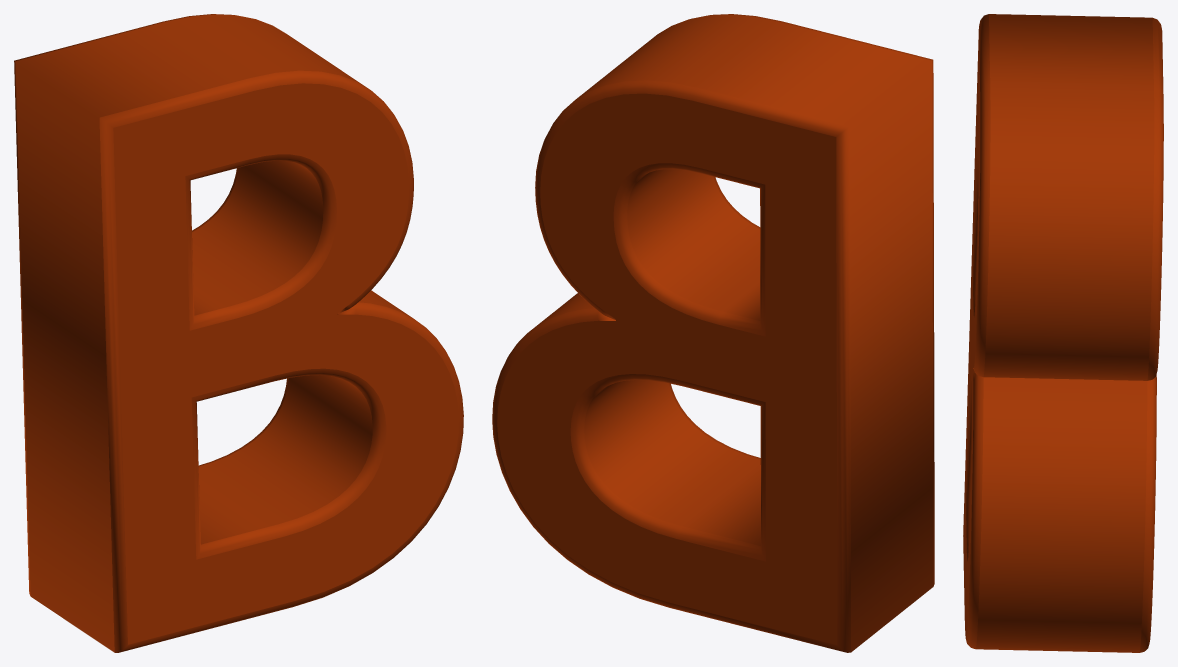
Rendered from letters_2.obj.
3 views of the same model, side by side, from view 1: azimuth 30°, elevation 25°; view 2: azimuth 150°, elevation 25°; view 3: azimuth 270°, elevation 25° (orthographic).
Parts seen in each view (by area): view 1: Text; view 2: Text; view 3: Text.
Boxes of the visible parts, x1=… form: Text: x1=14, y1=14, x2=463, y2=652; Text: x1=492, y1=14, x2=934, y2=652; Text: x1=963, y1=14, x2=1163, y2=652.
Size of the model in its own units: 0.5005 by 0.7141 by 0.245.
